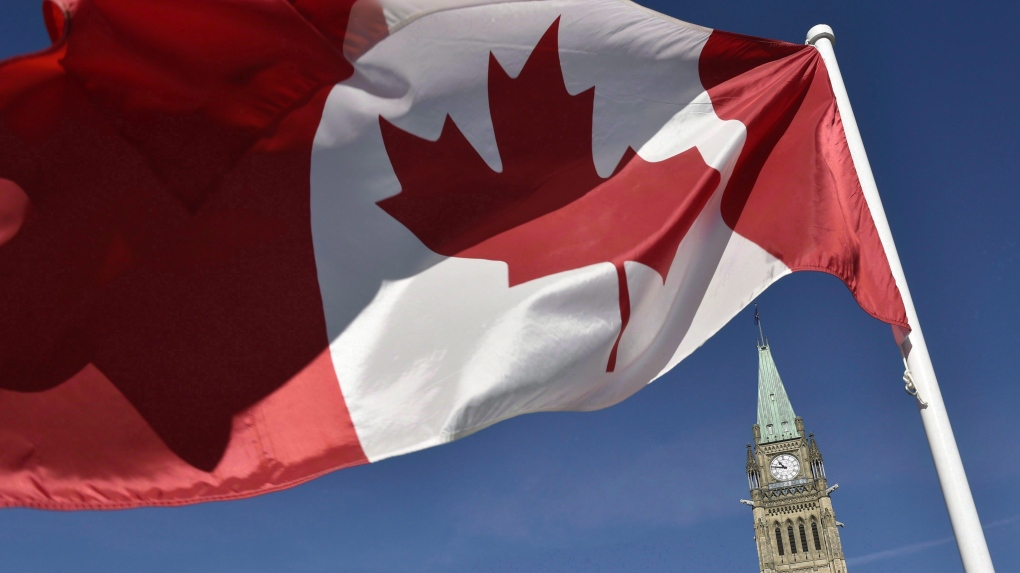Canada flag: (23, 2, 917, 514)
